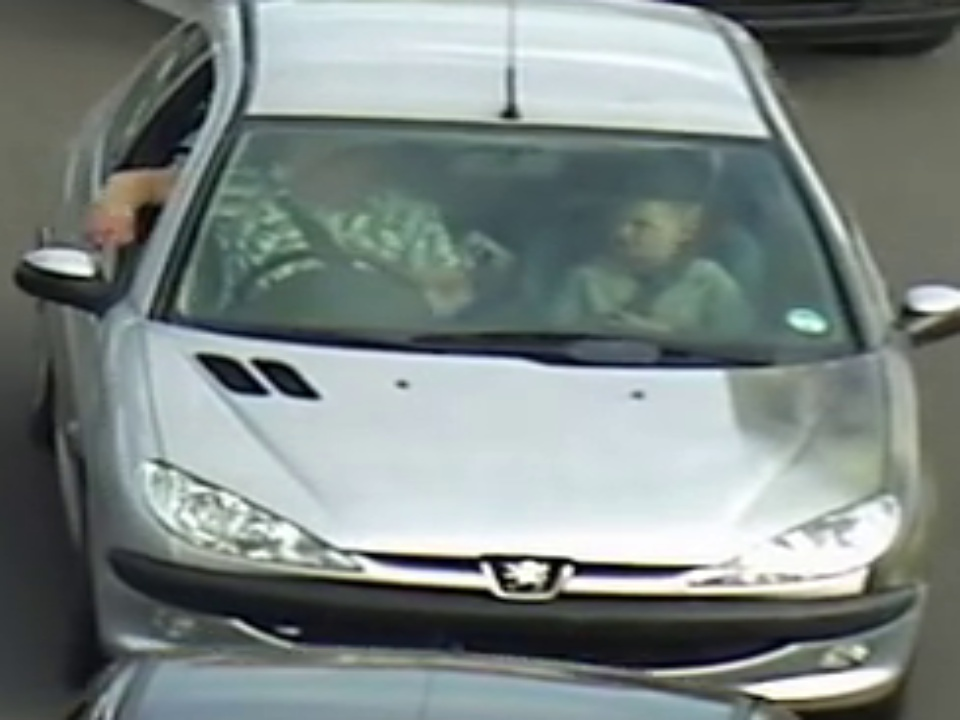TWO: (221, 117, 836, 360)
